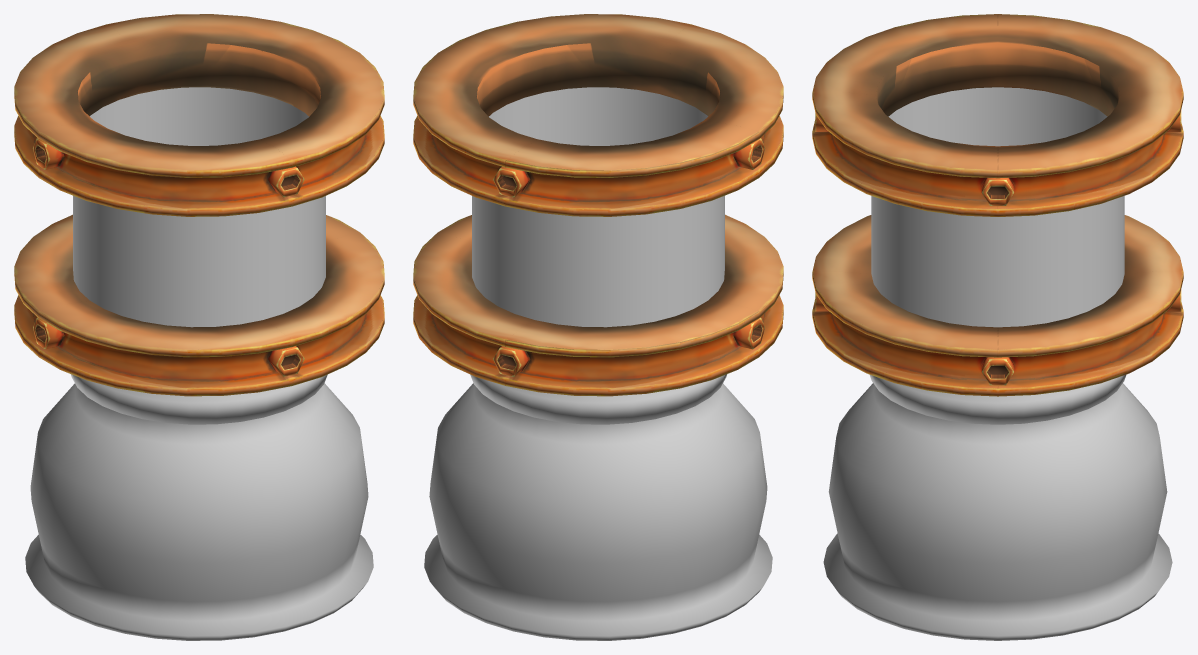
The model's file is Pipe_Head.fbx.
3 renders of one model, left to right at view 1: azimuth 30°, elevation 25°; view 2: azimuth 150°, elevation 25°; view 3: azimuth 270°, elevation 25°, orthographic.
Visible parts, largest first — view 1: Cylinder.001; view 2: Cylinder.001; view 3: Cylinder.001.
Boxes of the visible parts, box(x1,y1,x2,y2) form: Cylinder.001: box(14, 14, 384, 640); Cylinder.001: box(413, 14, 783, 640); Cylinder.001: box(812, 14, 1183, 640).
Size of the model in its own units: 167 by 240 by 167.
